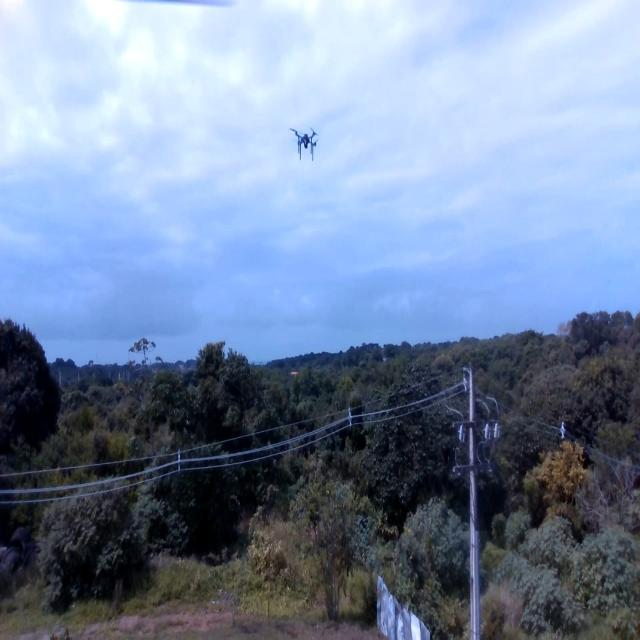-uav-: (288, 110, 324, 170)
